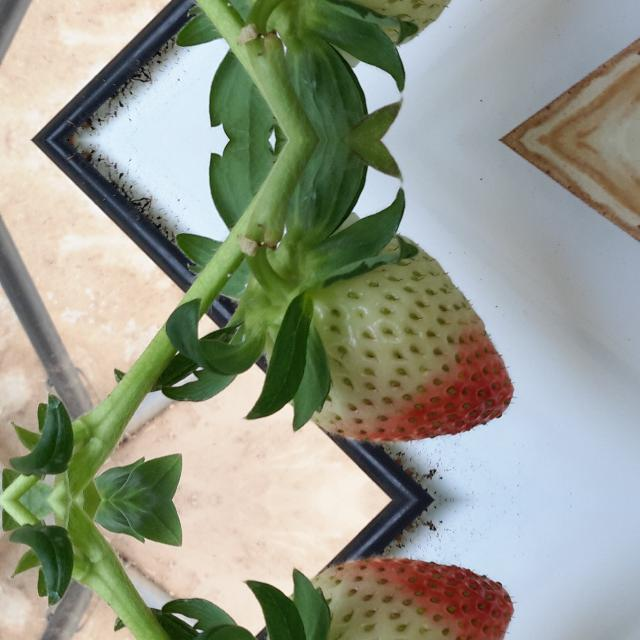Health_50: (264, 232, 514, 444), (263, 555, 514, 640), (263, 0, 514, 48)
